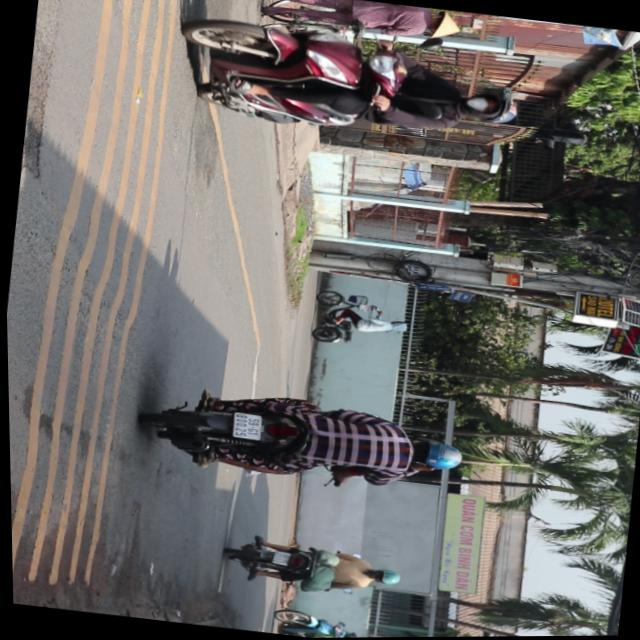helmet: (457, 89, 519, 125), (407, 436, 462, 473)
licenseplate: (173, 8, 530, 157), (137, 374, 469, 503)
nohelmet: (229, 412, 261, 439)
